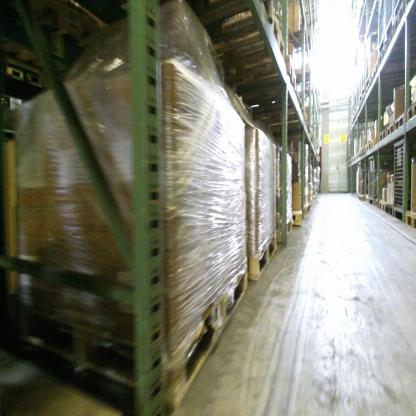pallet: (7, 265, 249, 403), (189, 7, 290, 81), (218, 58, 295, 96), (230, 233, 279, 292), (182, 4, 276, 25), (246, 82, 300, 118), (372, 54, 415, 86), (256, 108, 308, 130), (249, 97, 303, 115), (6, 64, 45, 87), (284, 24, 312, 55), (378, 42, 410, 69), (385, 23, 413, 53), (269, 219, 295, 249), (277, 208, 304, 236), (394, 5, 412, 37), (294, 70, 316, 91), (286, 131, 315, 145), (369, 74, 394, 87), (406, 95, 416, 124), (296, 205, 310, 222), (394, 111, 404, 132), (406, 209, 416, 227), (386, 120, 395, 138), (357, 93, 365, 111), (384, 202, 394, 216), (377, 130, 386, 145), (380, 198, 388, 214), (369, 136, 377, 151), (365, 82, 372, 94), (364, 143, 369, 155), (358, 194, 365, 202), (359, 145, 364, 156), (365, 195, 369, 205)
stillage: (1, 92, 27, 140), (394, 137, 409, 220), (367, 153, 389, 201), (354, 162, 366, 200), (378, 2, 386, 51), (383, 0, 393, 39), (391, 0, 404, 17)
